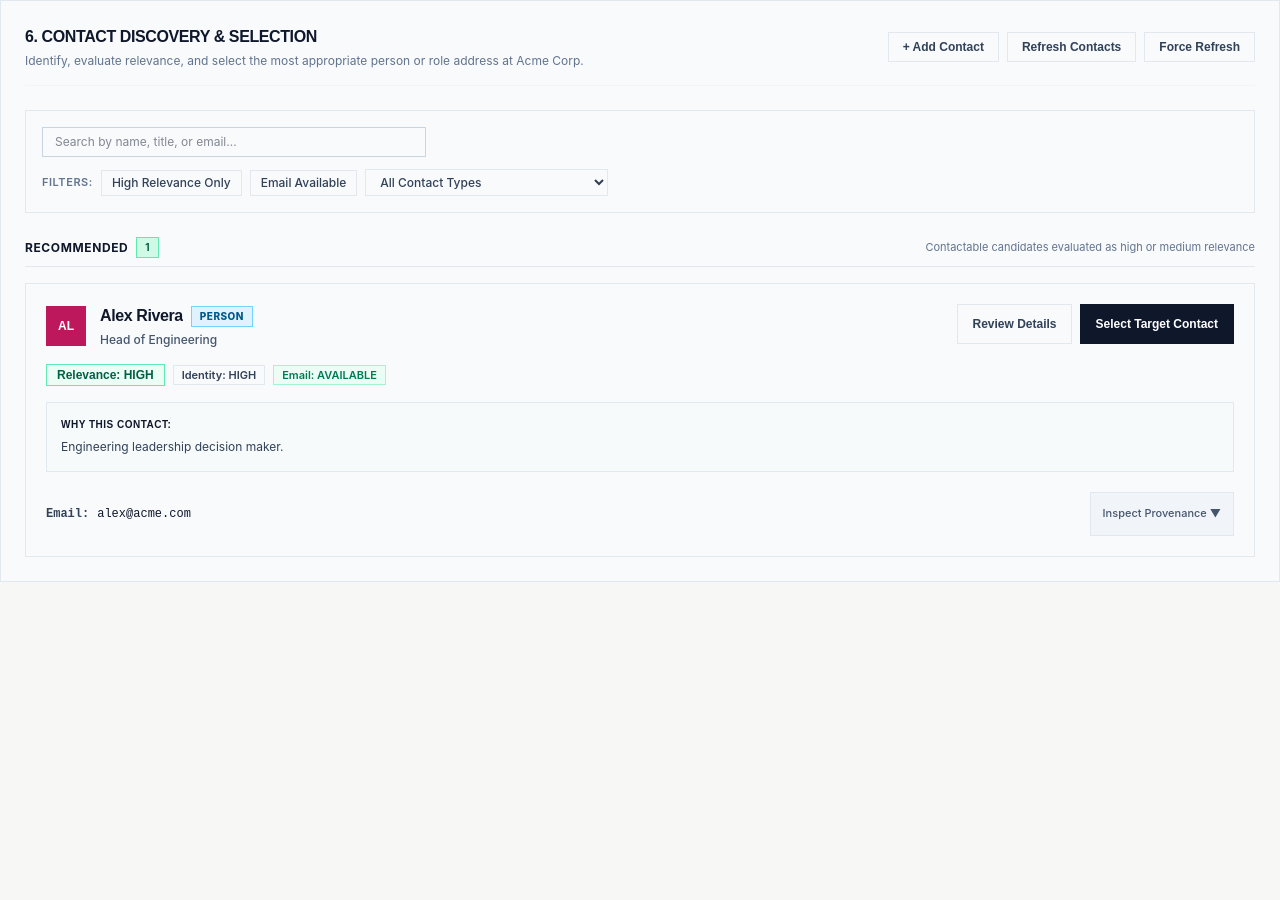
Test: ContactDiscoveryWorkspace Component - UX-004 Contact Discovery & Selection › shows an error when canonical campaign is absent and does not create one
Click the button "Select Target Contact": (1157, 324) x1=1080 y1=304 x2=1234 y2=344
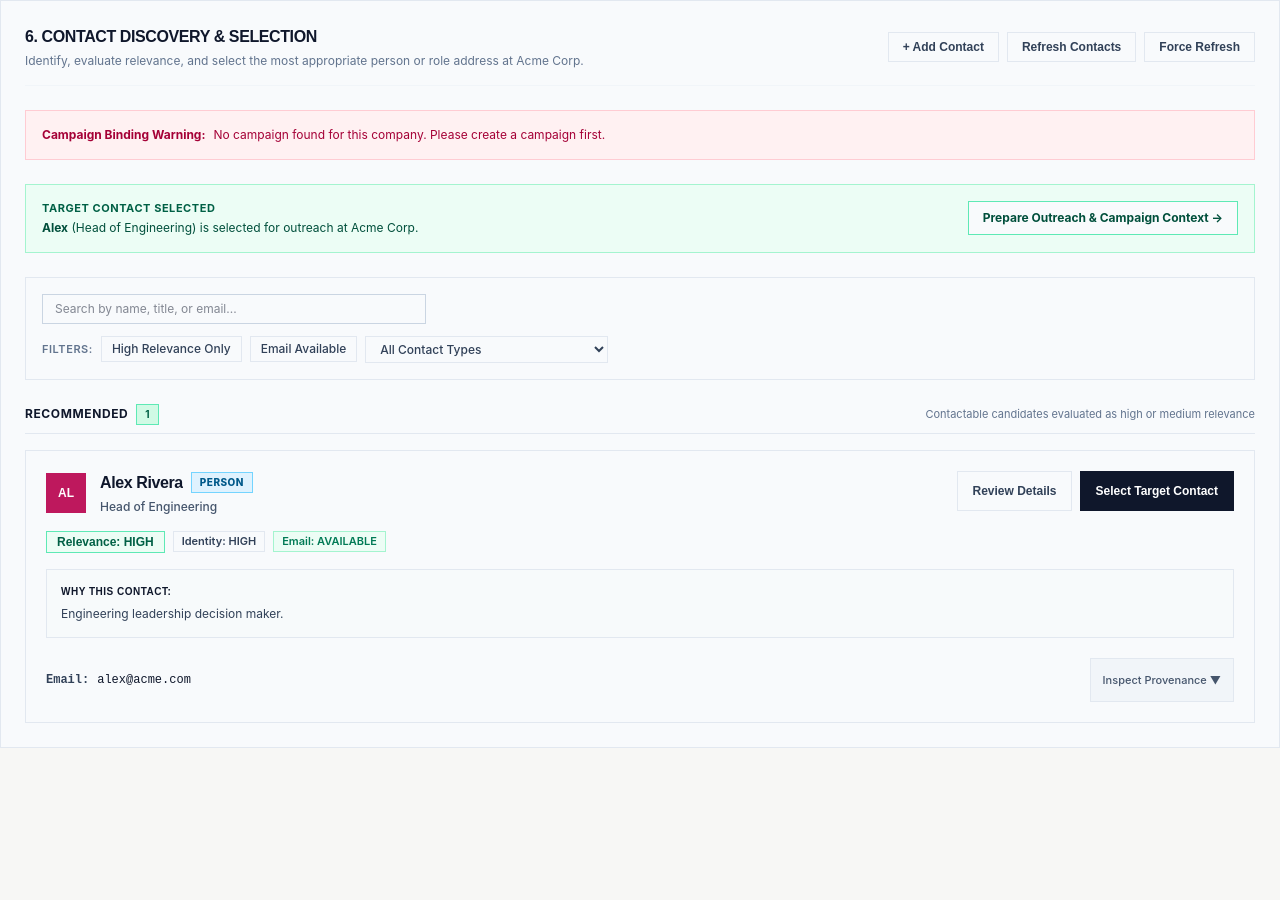
Check: the message shows "No campaign found for this company", box x1=214 y1=127 x2=605 y2=142
